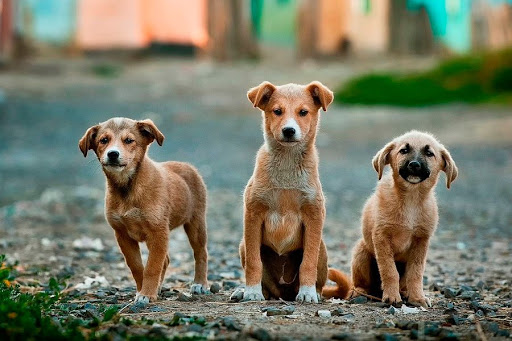dog: (78, 107, 222, 296), (237, 72, 341, 297), (350, 117, 467, 302)
